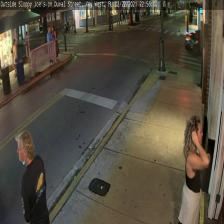person: (178, 115, 210, 223), (15, 131, 49, 223)
